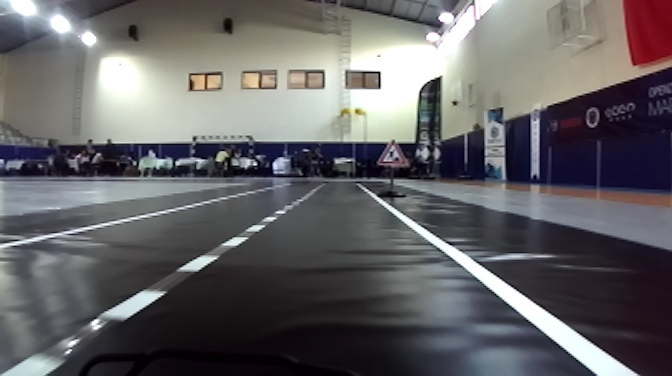yol_yapimi: (371, 135, 413, 168)
